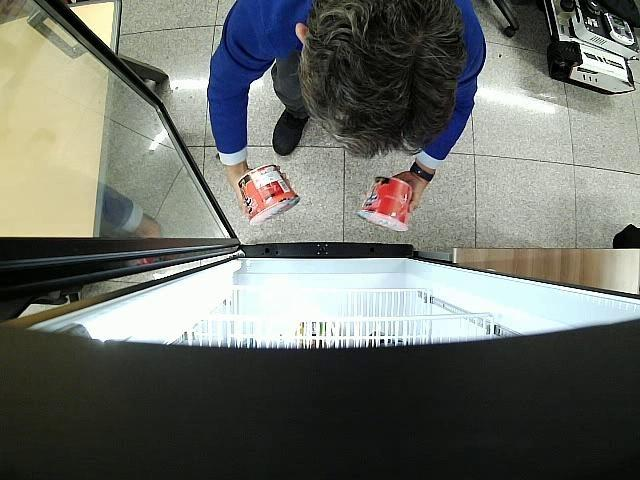01_ShinRamen_L: (238, 164, 300, 226), (358, 176, 412, 232)
